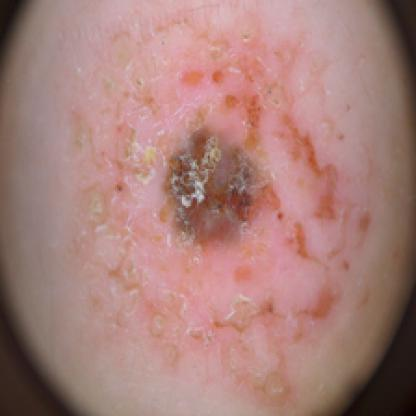benign: (69, 17, 373, 394)
